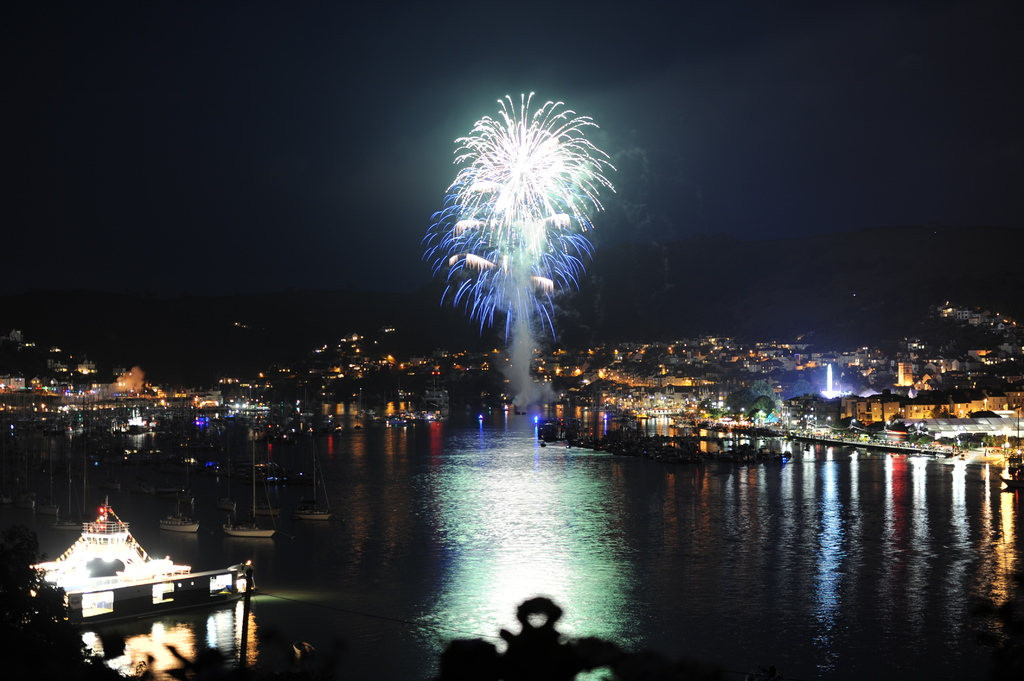boat: (218, 431, 280, 553), (293, 423, 343, 534), (156, 488, 203, 545)
